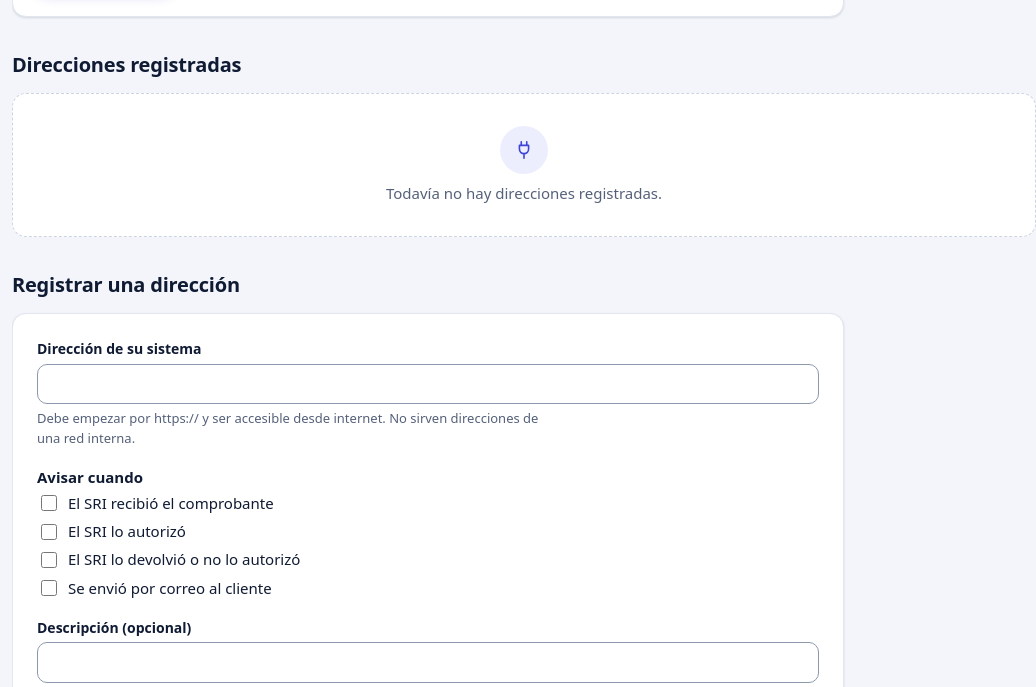
Test: Integraciones › does not register an address without any event chosen
(page scrolled)
Check: the text "Todavía no hay direcciones registradas." is shown, box [386,182,662,204]
Type "https://nuevo.example.com/x" into the field labelled "Dirección de su sistema" at (428,384), box [37,364,819,404]
(page scrolled)
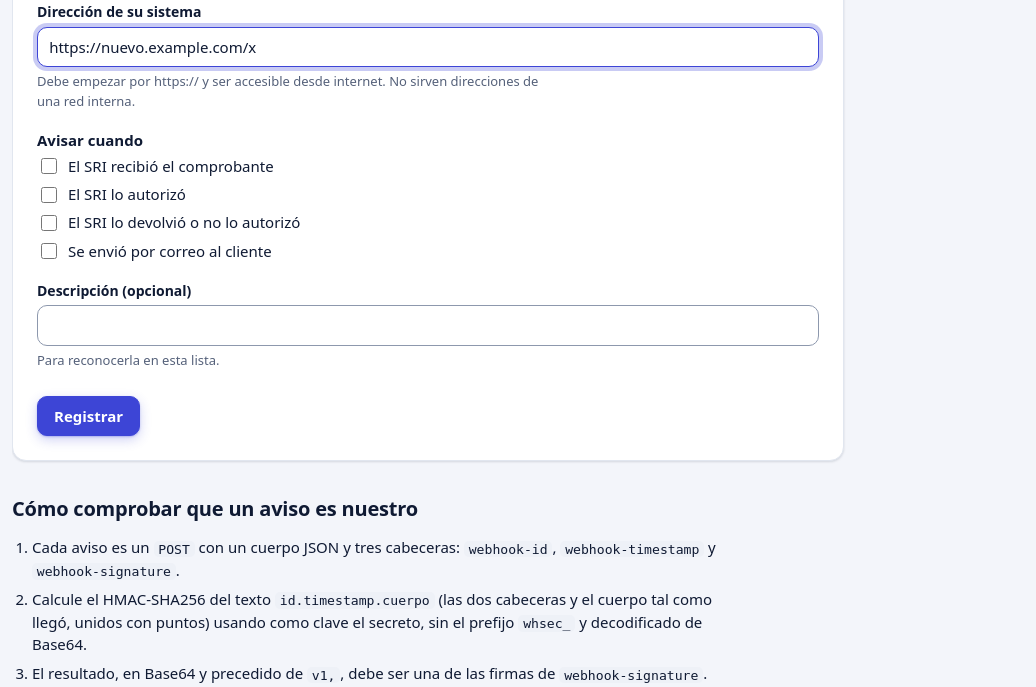
Click the button "Registrar" at (89,416), box [37,396,140,436]
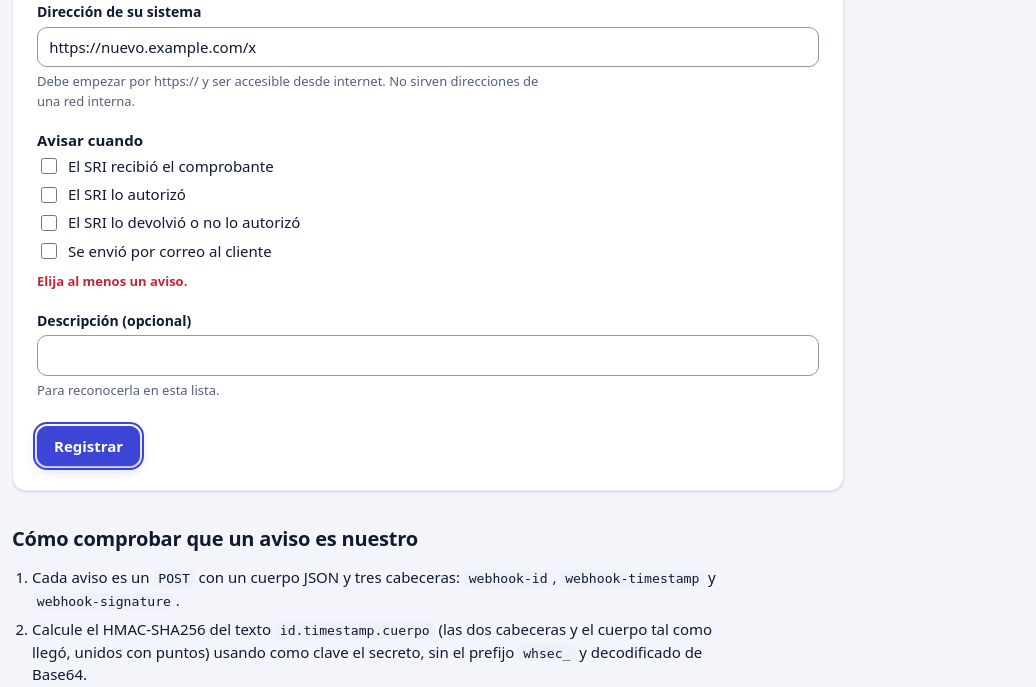
Check: the text "Elija al menos un aviso." is shown, box [37,272,187,290]
